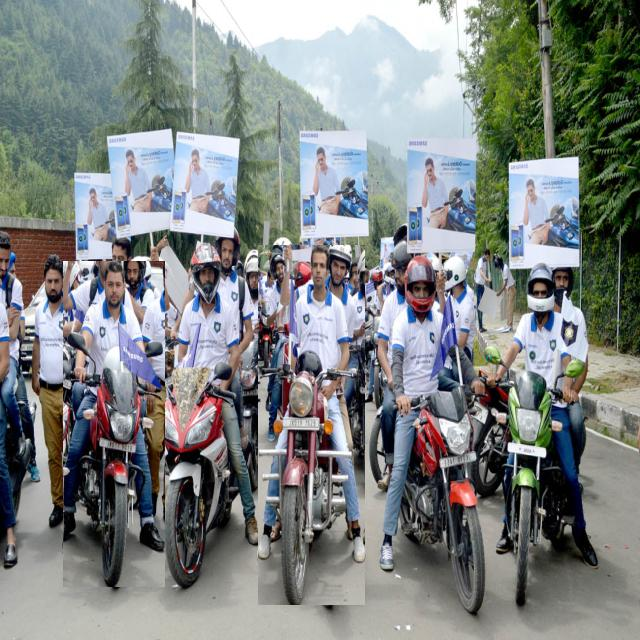motorcycle: (258, 246, 365, 605), (488, 264, 598, 604), (159, 242, 260, 585), (391, 256, 485, 613), (63, 262, 164, 587)
